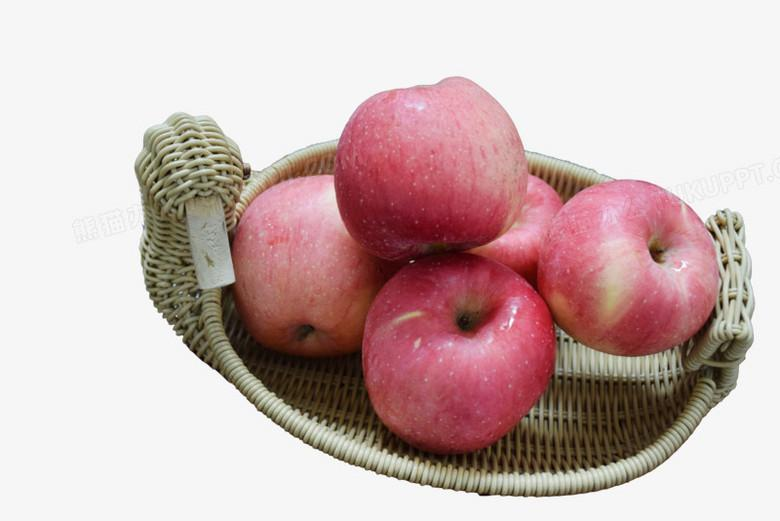apple: (362, 250, 559, 452), (335, 77, 529, 263), (539, 180, 718, 359), (229, 169, 389, 355)
